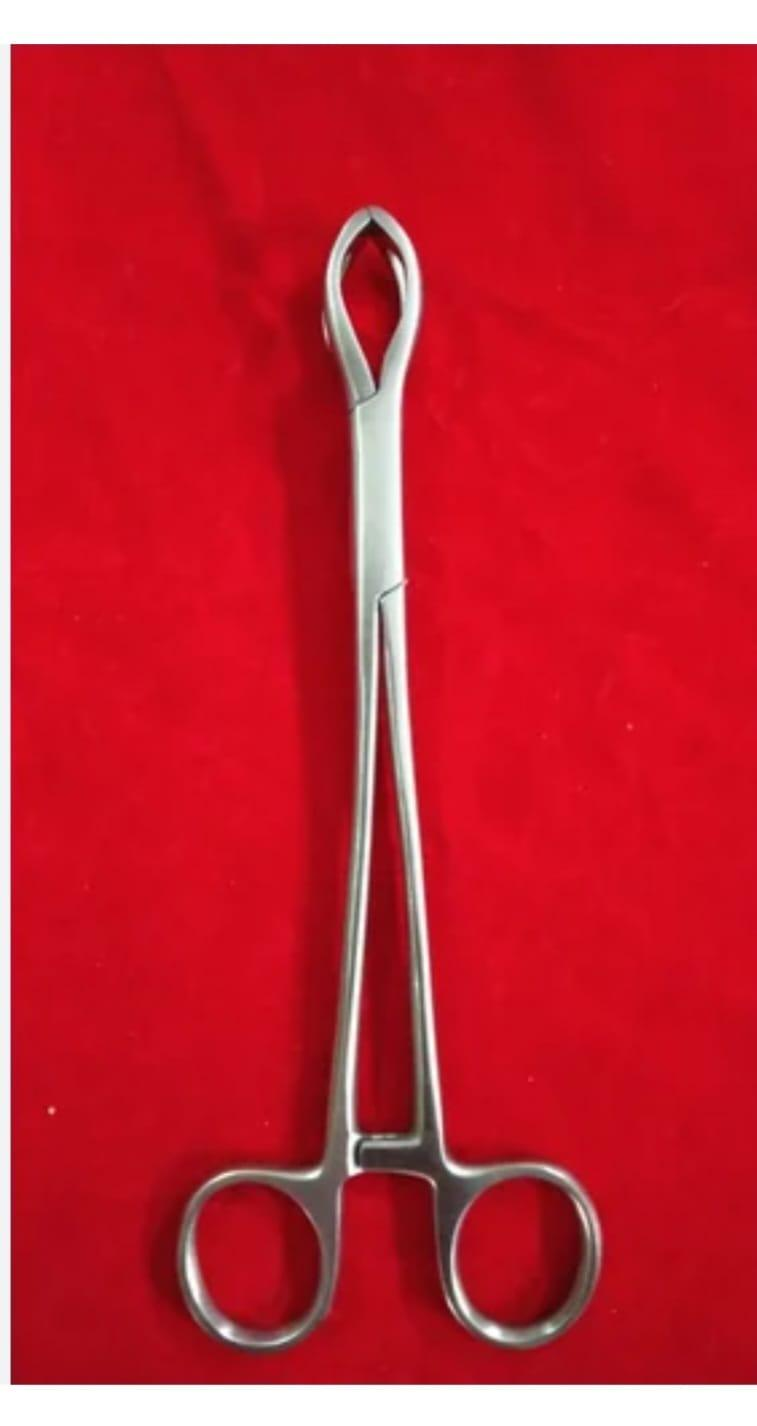Lane Tissue Forceps: (172, 188, 618, 1380)
